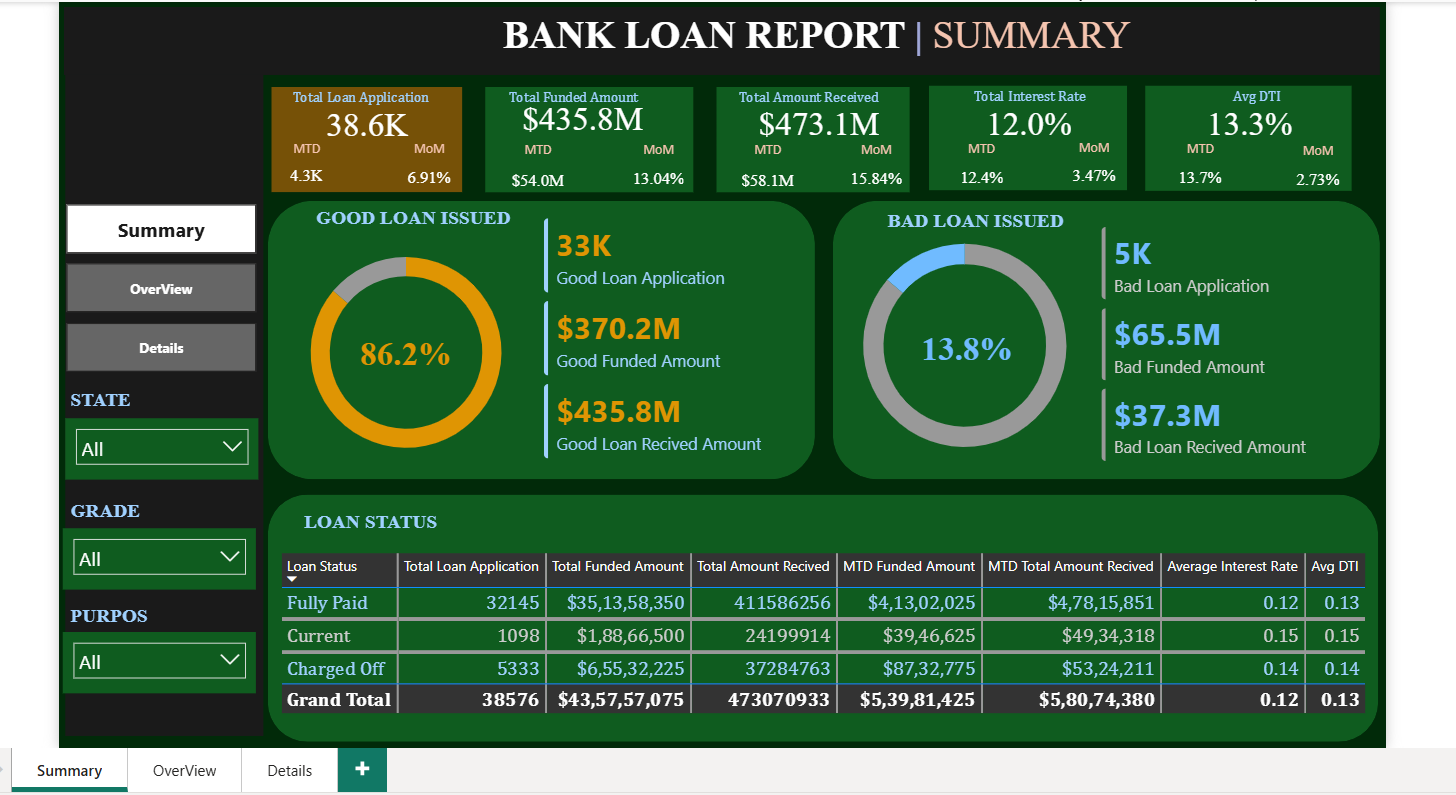

The page's visual inventory and layout, read from the dashboard file:
{"tool":"powerbi","page":{"name":"Summary","canvas":[1280,720],"ordinal":0},"visuals":[{"type":"shape","box":[5.5,70,191.4,638.6],"z":0},{"type":"shape","box":[746.5,192.1,528.3,269],"z":1000},{"type":"shape","box":[201.7,192.1,528.3,269],"z":2000},{"type":"shape","box":[4.3,4.3,1270,65.7],"z":3000},{"type":"shape","box":[840.3,79.8,191.1,100.8],"z":3000,"group":"g4"},{"type":"shape","box":[204.1,81.1,184.3,101.4],"z":3000,"group":"g1"},{"type":"shape","box":[412.1,81.1,201,102],"z":3000,"group":"g2"},{"type":"shape","box":[634.3,81.1,186.5,102],"z":3000,"group":"g3"},{"type":"textbox","box":[412.9,4.3,637.1,75.7],"z":4000},{"type":"cardVisual","fields":{"Data":["banking_loan banking_loan.Total Funded Amount"]},"box":[401,77.8,210,67.6],"z":4000,"group":"g2"},{"type":"shape","box":[1049.2,79.8,199.2,101.4],"z":4000,"group":"g5"},{"type":"cardVisual","fields":{"Data":["banking_loan banking_loan.Total Loan Application"]},"box":[218.9,81.1,156.3,70],"z":4000,"group":"g1"},{"type":"cardVisual","fields":{"Data":["banking_loan banking_loan.Average Interest Rate"]},"box":[839.9,82.4,193.9,66.8],"z":4000,"group":"g4"},{"type":"cardVisual","fields":{"Data":["Date Table.Total Amount Recived"]},"box":[640.3,83,186.3,67.6],"z":4000,"group":"g3"},{"type":"textbox","box":[857.1,75.5,160.5,34.1],"z":5000,"group":"g4"},{"type":"group","id":"g1","title":"Group 1","box":[193.8,76.8,222.3,119.4],"z":5000},{"type":"textbox","box":[220.3,76.8,154.8,34.3],"z":5000,"group":"g1"},{"type":"textbox","box":[429.8,76.8,168.8,34.5],"z":5000,"group":"g2"},{"type":"textbox","box":[650.7,76.8,156.7,34.5],"z":5000,"group":"g3"},{"type":"cardVisual","fields":{"Data":["banking_loan banking_loan.Avg DTI"]},"box":[1048.8,82.4,202,67.2],"z":6000,"group":"g5"},{"type":"cardVisual","title":"MTD","fields":{"Data":["banking_loan banking_loan.MTD Avg Int Ratet"]},"box":[832.9,132.1,116,65.5],"z":6000,"group":"g4"},{"type":"cardVisual","title":"MTD","fields":{"Data":["banking_loan banking_loan.MTD Loan Application"]},"box":[193.8,132.5,89.9,60],"z":6000,"group":"g1"},{"type":"cardVisual","title":"MTD","fields":{"Data":["banking_loan banking_loan.MTD Funded Amount"]},"box":[401,134.1,123.6,66.2],"z":6000,"group":"g2"},{"type":"cardVisual","title":"MTD","fields":{"Data":["banking_loan banking_loan.MTD Total Amount Recived"]},"box":[627.1,134.1,113.2,66.2],"z":6000,"group":"g3"},{"type":"shape","box":[201.7,474.8,1071.7,238.8],"z":6000},{"type":"group","id":"g2","title":"Group 1","box":[401,76.8,242.9,123.5],"z":7000},{"type":"cardVisual","title":"MoM","fields":{"Data":["banking_loan banking_loan.MoM Avg Int Rate"]},"box":[937.3,131.2,123.4,62.7],"z":7000,"group":"g4"},{"type":"cardVisual","title":"MoM","fields":{"Data":["banking_loan banking_loan.MoM Loan Application"]},"box":[297.7,132.8,118.9,63.1],"z":7000,"group":"g1"},{"type":"cardVisual","title":"MoM","fields":{"Data":["banking_loan banking_loan.MoM Total Funded Amount"]},"box":[514.2,133.1,129.7,63.5],"z":7000,"group":"g2"},{"type":"cardVisual","title":"MoM","fields":{"Data":["banking_loan banking_loan.MoM Total Amount Recived"]},"box":[729,133.1,120.4,63.5],"z":7000,"group":"g3"},{"type":"textbox","box":[1066.7,75.5,167.3,34.3],"z":8000,"group":"g5"},{"type":"group","id":"g3","title":"Group 1","box":[627.1,76.8,222.3,123.5],"z":8000},{"type":"group","id":"g4","title":"Group 1","box":[832.9,75.5,227.8,122.1],"z":9000},{"type":"cardVisual","title":"MTD","fields":{"Data":["banking_loan banking_loan.MTD Avg DTI"]},"box":[1041.5,132.5,120.9,65.9],"z":10000,"group":"g5"},{"type":"cardVisual","fields":{"Data":["banking_loan banking_loan.Good Loan %"]},"box":[247,304.6,175.6,67.2],"z":10000},{"type":"group","id":"g5","title":"Group 2","box":[1041.5,75.5,238.8,123.5],"z":11000},{"type":"cardVisual","title":"MoM","fields":{"Data":["banking_loan banking_loan.MoM Avg DIT"]},"box":[1151.7,134.5,128.6,63.1],"z":11000,"group":"g5"},{"type":"donutChart","fields":{"Category":["banking_loan banking_loan.Good vs Bad Loan"],"Y":["banking_loan banking_loan.Total Loan Application"]},"box":[207.2,218.2,255.2,240.1],"z":12000},{"type":"textbox","box":[216.8,193.5,249.7,42.5],"z":13000},{"type":"cardVisual","fields":{"Data":["banking_loan banking_loan.Good Loan Application","banking_loan banking_loan.Good Funded Amount","banking_loan banking_loan.Good Loan Recived Amount"]},"box":[451.5,192.1,279.9,266.2],"z":14000},{"type":"donutChart","fields":{"Category":["banking_loan banking_loan.Good vs Bad Loan"],"Y":["banking_loan banking_loan.Total Loan Application"]},"box":[746.5,203.1,255.2,258],"z":15000},{"type":"cardVisual","fields":{"Data":["banking_loan banking_loan.Bad Loan %"]},"box":[789,300.5,175.6,67.2],"z":16000},{"type":"textbox","box":[760.2,194.9,249.7,42.5],"z":17000},{"type":"cardVisual","fields":{"Data":["banking_loan banking_loan.Bad Loan Application","banking_loan banking_loan.Bad Funded Amount","banking_loan banking_loan.Bad Loan Recived Amount"]},"box":[989.4,200.3,279.9,260.7],"z":18000},{"type":"tableEx","fields":{"Values":["banking_loan banking_loan.loan_status","banking_loan banking_loan.Total Loan Application","banking_loan banking_loan.Total Funded Amount","banking_loan banking_loan.Total Amount Recived","banking_loan banking_loan.MTD Funded Amount","banking_loan banking_loan.MTD Total Amount Recived","banking_loan banking_loan.Average Interest Rate","banking_loan banking_loan.Avg DTI"]},"box":[208.6,526.9,1062.1,170.2],"z":19000},{"type":"textbox","box":[231.9,485.8,153.7,42.5],"z":20000},{"type":"slicer","fields":{"Values":["banking_loan banking_loan.grade"]},"box":[4.1,507.7,186.6,59],"z":21000},{"type":"slicer","fields":{"Values":["banking_loan banking_loan.purpose"]},"box":[4.1,607.9,186.6,59],"z":22000},{"type":"textbox","box":[5.5,367.8,126.2,42.5],"z":23000},{"type":"textbox","box":[5.5,576.3,126.2,42.5],"z":24000},{"type":"slicer","fields":{"Values":["banking_loan banking_loan.address_state"]},"box":[5.5,402.1,186.6,59],"z":25000},{"type":"textbox","box":[5.5,474.8,126.2,42.5],"z":26000},{"type":"pageNavigator","box":[6.9,194.9,183.9,163.3],"z":27000}]}

Visuals, with their boxes on the page's 1280x720 design canvas (x1, y1, x2, y2). These are canvas units, not pixel positions in the 1456x795 screenshot, which may show the page scaled, cropped or inside an application window:
shape: {"x1": 6, "y1": 70, "x2": 197, "y2": 709}
shape: {"x1": 746, "y1": 192, "x2": 1275, "y2": 461}
shape: {"x1": 202, "y1": 192, "x2": 730, "y2": 461}
shape: {"x1": 4, "y1": 4, "x2": 1274, "y2": 70}
shape: {"x1": 840, "y1": 80, "x2": 1031, "y2": 181}
shape: {"x1": 204, "y1": 81, "x2": 388, "y2": 182}
shape: {"x1": 412, "y1": 81, "x2": 613, "y2": 183}
shape: {"x1": 634, "y1": 81, "x2": 821, "y2": 183}
textbox: {"x1": 413, "y1": 4, "x2": 1050, "y2": 80}
cardVisual - banking_loan banking_loan.Total Funded Amount: {"x1": 401, "y1": 78, "x2": 611, "y2": 145}
shape: {"x1": 1049, "y1": 80, "x2": 1248, "y2": 181}
cardVisual - banking_loan banking_loan.Total Loan Application: {"x1": 219, "y1": 81, "x2": 375, "y2": 151}
cardVisual - banking_loan banking_loan.Average Interest Rate: {"x1": 840, "y1": 82, "x2": 1034, "y2": 149}
cardVisual - Date Table.Total Amount Recived: {"x1": 640, "y1": 83, "x2": 827, "y2": 151}
textbox: {"x1": 857, "y1": 76, "x2": 1018, "y2": 110}
"Group 1" group: {"x1": 194, "y1": 77, "x2": 416, "y2": 196}
textbox: {"x1": 220, "y1": 77, "x2": 375, "y2": 111}
textbox: {"x1": 430, "y1": 77, "x2": 599, "y2": 111}
textbox: {"x1": 651, "y1": 77, "x2": 807, "y2": 111}
cardVisual - banking_loan banking_loan.Avg DTI: {"x1": 1049, "y1": 82, "x2": 1251, "y2": 150}
"MTD" cardVisual: {"x1": 833, "y1": 132, "x2": 949, "y2": 198}
"MTD" cardVisual: {"x1": 194, "y1": 132, "x2": 284, "y2": 192}
"MTD" cardVisual: {"x1": 401, "y1": 134, "x2": 525, "y2": 200}
"MTD" cardVisual: {"x1": 627, "y1": 134, "x2": 740, "y2": 200}
shape: {"x1": 202, "y1": 475, "x2": 1273, "y2": 714}
"Group 1" group: {"x1": 401, "y1": 77, "x2": 644, "y2": 200}
"MoM" cardVisual: {"x1": 937, "y1": 131, "x2": 1061, "y2": 194}
"MoM" cardVisual: {"x1": 298, "y1": 133, "x2": 417, "y2": 196}
"MoM" cardVisual: {"x1": 514, "y1": 133, "x2": 644, "y2": 197}
"MoM" cardVisual: {"x1": 729, "y1": 133, "x2": 849, "y2": 197}
textbox: {"x1": 1067, "y1": 76, "x2": 1234, "y2": 110}
"Group 1" group: {"x1": 627, "y1": 77, "x2": 849, "y2": 200}
"Group 1" group: {"x1": 833, "y1": 76, "x2": 1061, "y2": 198}
"MTD" cardVisual: {"x1": 1042, "y1": 132, "x2": 1162, "y2": 198}
cardVisual - banking_loan banking_loan.Good Loan %: {"x1": 247, "y1": 305, "x2": 423, "y2": 372}
"Group 2" group: {"x1": 1042, "y1": 76, "x2": 1280, "y2": 199}
"MoM" cardVisual: {"x1": 1152, "y1": 134, "x2": 1280, "y2": 198}
donutChart - banking_loan banking_loan.Good vs Bad Loan x banking_loan banking_loan.Total Loan Application: {"x1": 207, "y1": 218, "x2": 462, "y2": 458}
textbox: {"x1": 217, "y1": 194, "x2": 466, "y2": 236}
cardVisual - banking_loan banking_loan.Good Loan Application x banking_loan banking_loan.Good Funded Amount: {"x1": 452, "y1": 192, "x2": 731, "y2": 458}
donutChart - banking_loan banking_loan.Good vs Bad Loan x banking_loan banking_loan.Total Loan Application: {"x1": 746, "y1": 203, "x2": 1002, "y2": 461}
cardVisual - banking_loan banking_loan.Bad Loan %: {"x1": 789, "y1": 300, "x2": 965, "y2": 368}
textbox: {"x1": 760, "y1": 195, "x2": 1010, "y2": 237}
cardVisual - banking_loan banking_loan.Bad Loan Application x banking_loan banking_loan.Bad Funded Amount: {"x1": 989, "y1": 200, "x2": 1269, "y2": 461}
tableEx - banking_loan banking_loan.loan_status x banking_loan banking_loan.Total Loan Application: {"x1": 209, "y1": 527, "x2": 1271, "y2": 697}
textbox: {"x1": 232, "y1": 486, "x2": 386, "y2": 528}
slicer - banking_loan banking_loan.grade: {"x1": 4, "y1": 508, "x2": 191, "y2": 567}
slicer - banking_loan banking_loan.purpose: {"x1": 4, "y1": 608, "x2": 191, "y2": 667}
textbox: {"x1": 6, "y1": 368, "x2": 132, "y2": 410}
textbox: {"x1": 6, "y1": 576, "x2": 132, "y2": 619}
slicer - banking_loan banking_loan.address_state: {"x1": 6, "y1": 402, "x2": 192, "y2": 461}
textbox: {"x1": 6, "y1": 475, "x2": 132, "y2": 517}
pageNavigator: {"x1": 7, "y1": 195, "x2": 191, "y2": 358}
